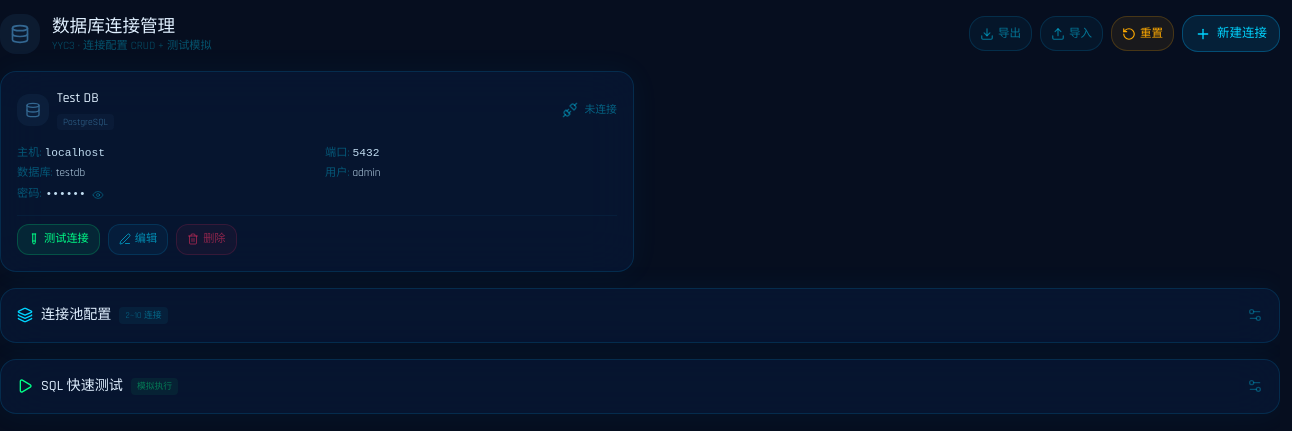
Scenario: DatabaseConnectionPanel › 编辑连接 › saves edited connection
Click the button "编辑" at coordinates (138, 239), box [108,224,168,255]
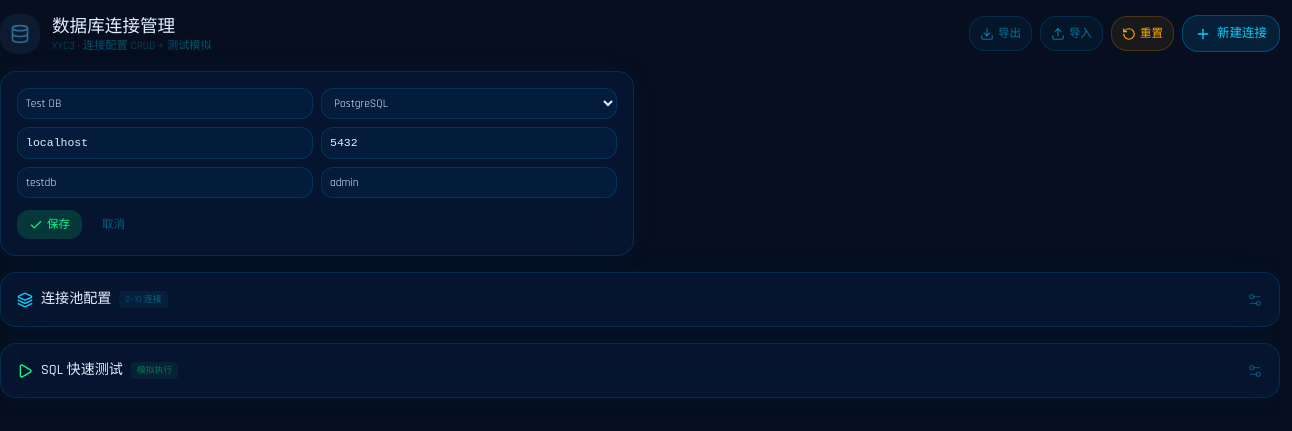
Replace the text in the 1st field with placeholder "名称" with "Updated DB" at coordinates (165, 104), box [17,88,313,120]
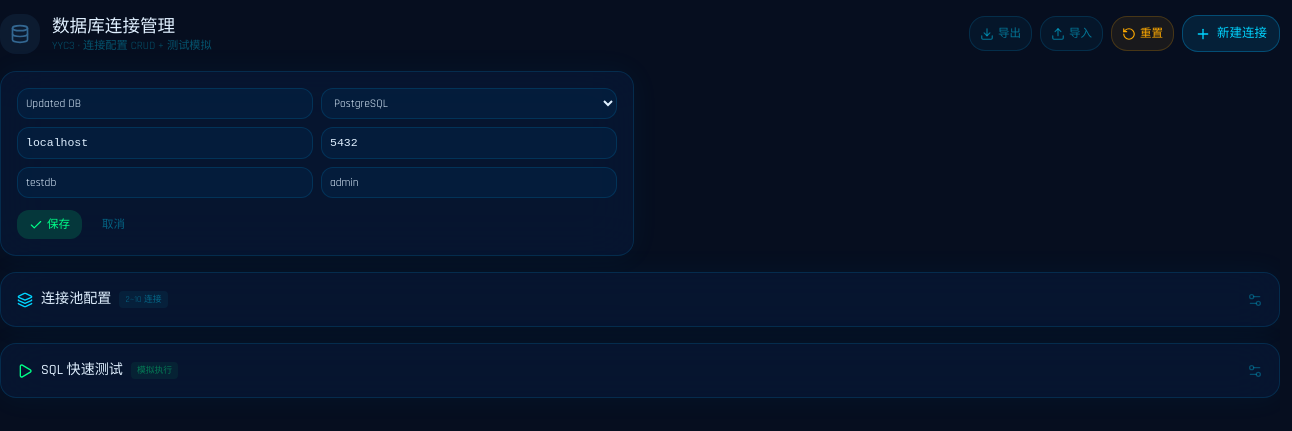
Click the button "保存" at coordinates (50, 225), box [17,210,82,239]
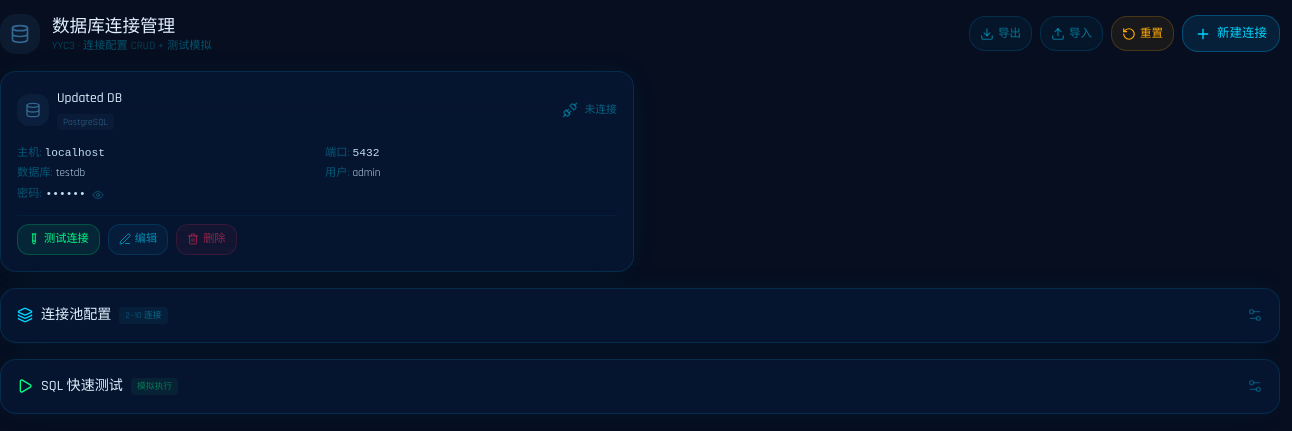
Expected: the heading "Updated DB" is shown, [57,88,122,109]
